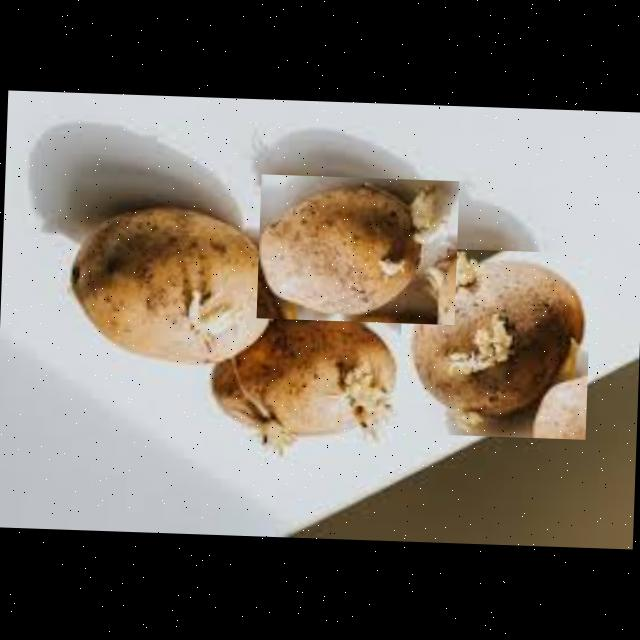Sprouted potato: (62, 200, 288, 374), (398, 247, 592, 439), (198, 304, 403, 466), (256, 174, 459, 325)
